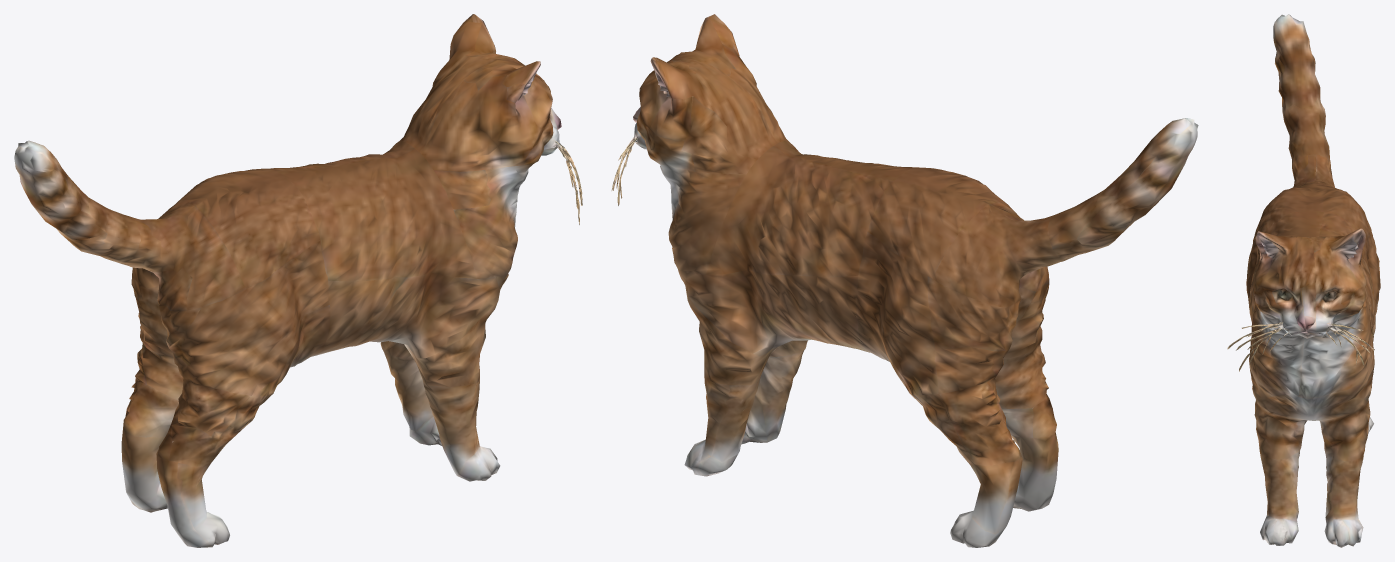
File: LASERTATER-lo.glb
3 views of the same model, side by side, from view 1: azimuth 30°, elevation 25°; view 2: azimuth 150°, elevation 25°; view 3: azimuth 270°, elevation 25° (orthographic). The views are drawn at different scales.
Parts seen in each view (by area): view 1: tripo_node_6e248fd5-f9af-43b9-9211-2b25bf808153; view 2: tripo_node_6e248fd5-f9af-43b9-9211-2b25bf808153; view 3: tripo_node_6e248fd5-f9af-43b9-9211-2b25bf808153.
Part boxes in pixels (<box>): tripo_node_6e248fd5-f9af-43b9-9211-2b25bf808153: <box>14,14,582,547</box>; tripo_node_6e248fd5-f9af-43b9-9211-2b25bf808153: <box>611,14,1198,547</box>; tripo_node_6e248fd5-f9af-43b9-9211-2b25bf808153: <box>1227,14,1380,547</box>.
Bounding box in the file's own units: 1.32 × 0.9971 × 0.3919.
Materials: 1 (1 with a texture image).
